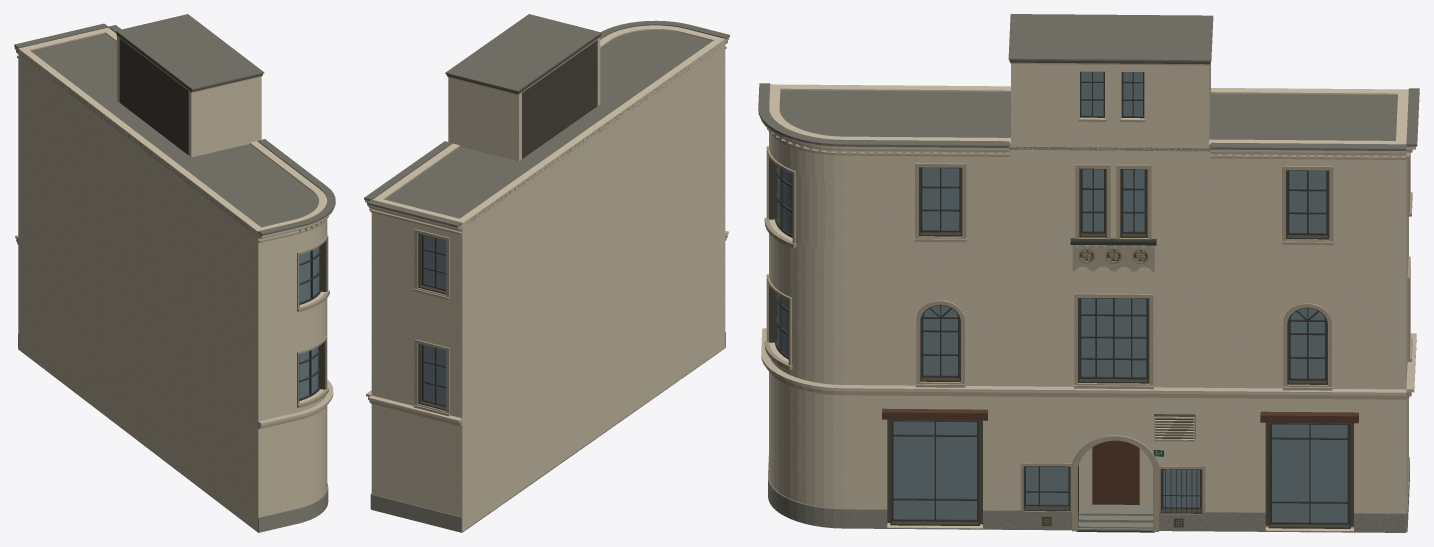
The model's file is xuhui-xiangyang-364-arched-residence-lod.glb.
The picture shows the model from 3 angles, left to right: view 1: azimuth 30°, elevation 25°; view 2: azimuth 150°, elevation 25°; view 3: azimuth 270°, elevation 25°; orthographic projection. The views are drawn at different scales.
Parts seen in each view (by area): view 1: 襄阳南路364号住宅; view 2: 襄阳南路364号住宅; view 3: 襄阳南路364号住宅.
Part boxes in pixels (x1,y1,x2,y2): 襄阳南路364号住宅: [14, 14, 335, 532]; 襄阳南路364号住宅: [364, 14, 729, 532]; 襄阳南路364号住宅: [758, 14, 1419, 532].
Bounding box in the file's own units: 3.73 × 12.62 × 15.87.
Materials: 16 (2 with a texture image).
